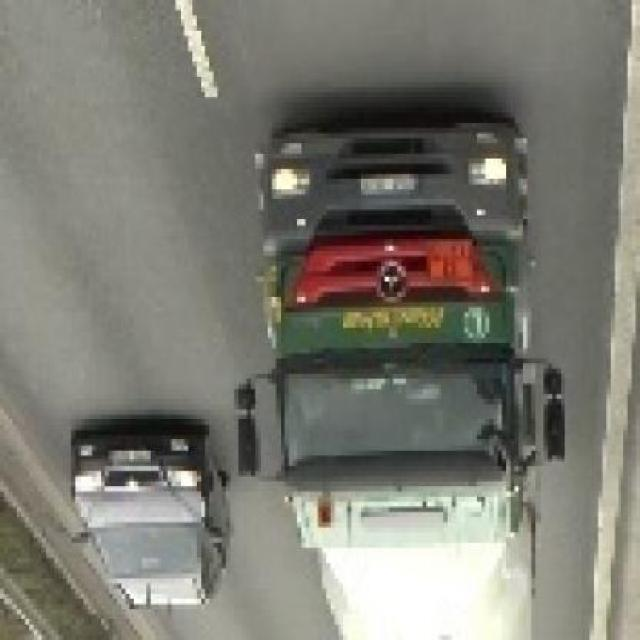truck: (230, 119, 561, 640)
